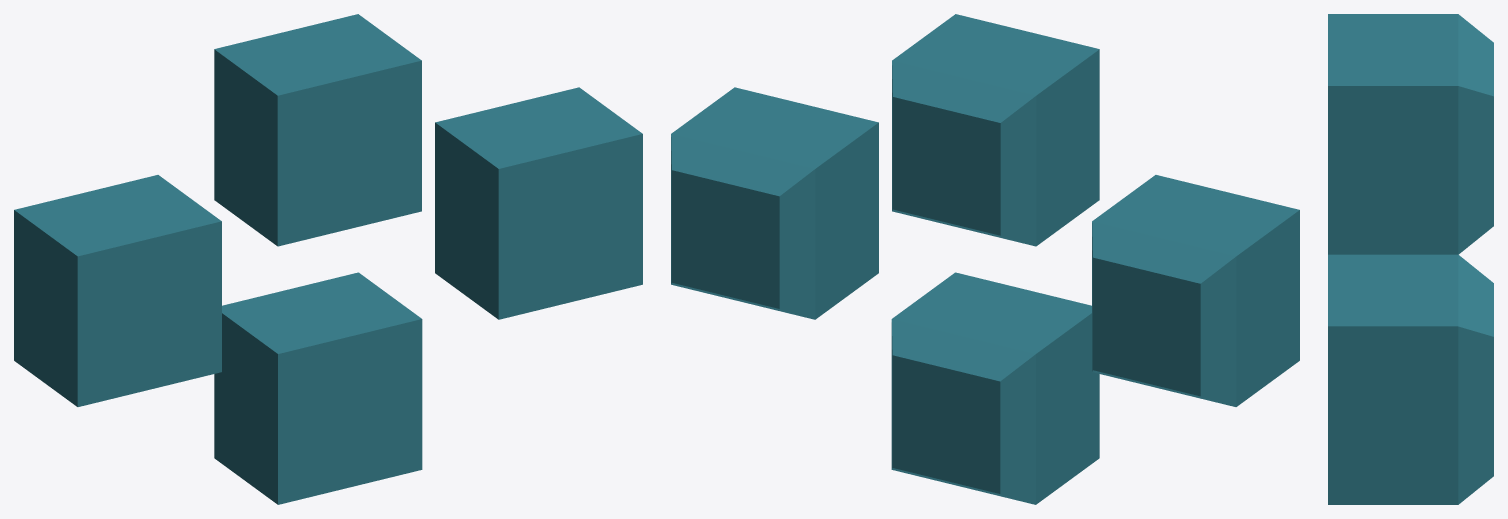
The model's file is Ore1.fbx.
3 renders of one model, left to right at view 1: azimuth 30°, elevation 25°; view 2: azimuth 150°, elevation 25°; view 3: azimuth 270°, elevation 25°, orthographic. The views are drawn at different scales.
Parts seen in each view (by area): view 1: Cube.022; view 2: Cube.022; view 3: Cube.022.
Part boxes in pixels (left/top/right/bottom): Cube.022: left=14, top=14, right=642, bottom=504; Cube.022: left=671, top=14, right=1299, bottom=504; Cube.022: left=1328, top=14, right=1493, bottom=504.
Bounding box in the file's own units: 0.9492 × 0.6569 × 0.2357.
